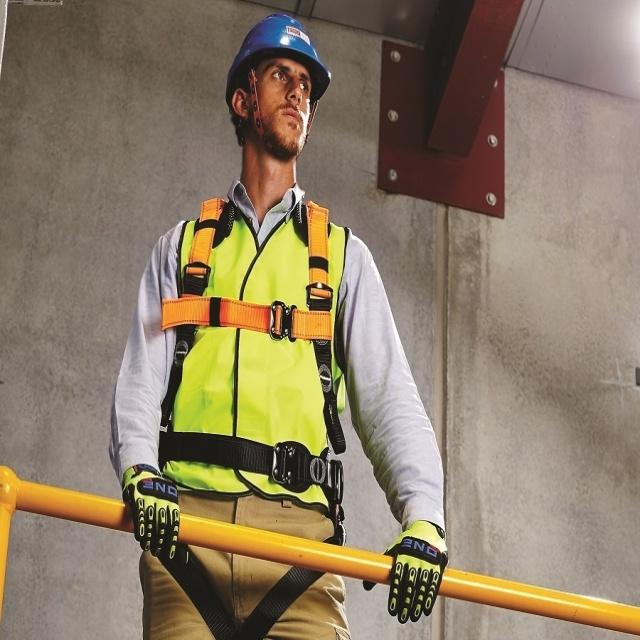helmet: (225, 15, 332, 221)
vest: (159, 264, 351, 640)
